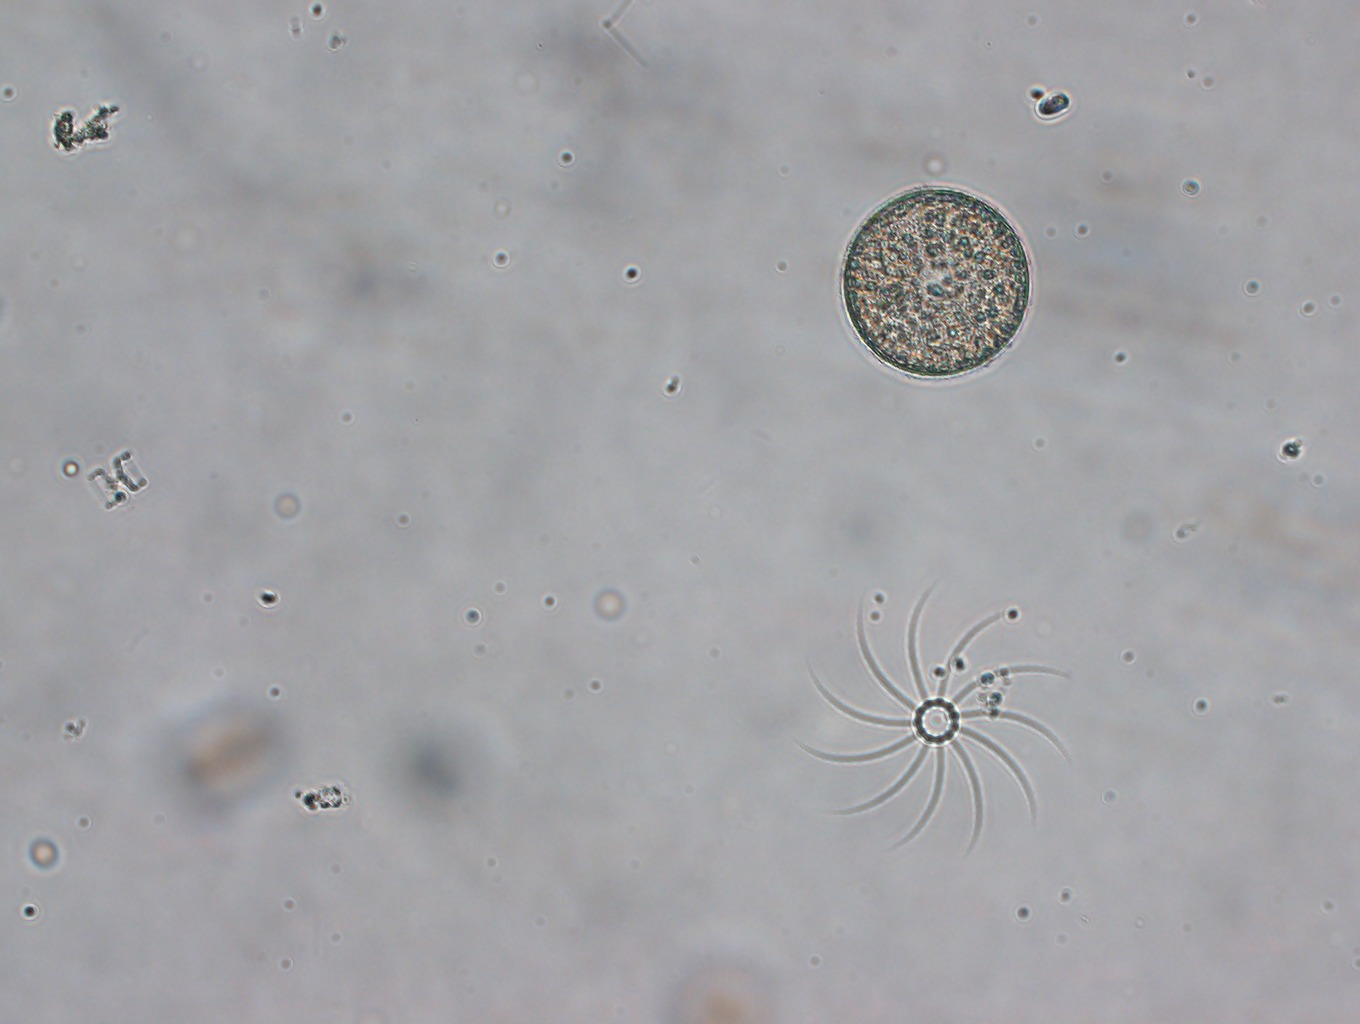bacteriastrum: (793, 577, 1074, 859)
coscinodiscus: (842, 182, 1034, 381)
